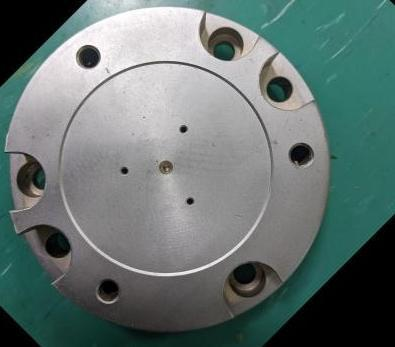hole: (214, 243, 283, 313), (189, 8, 257, 77), (0, 148, 61, 212), (253, 61, 306, 113), (34, 222, 82, 270), (84, 268, 129, 314), (67, 34, 111, 78), (279, 133, 322, 176), (114, 161, 133, 180), (181, 192, 199, 209), (175, 120, 192, 137)
